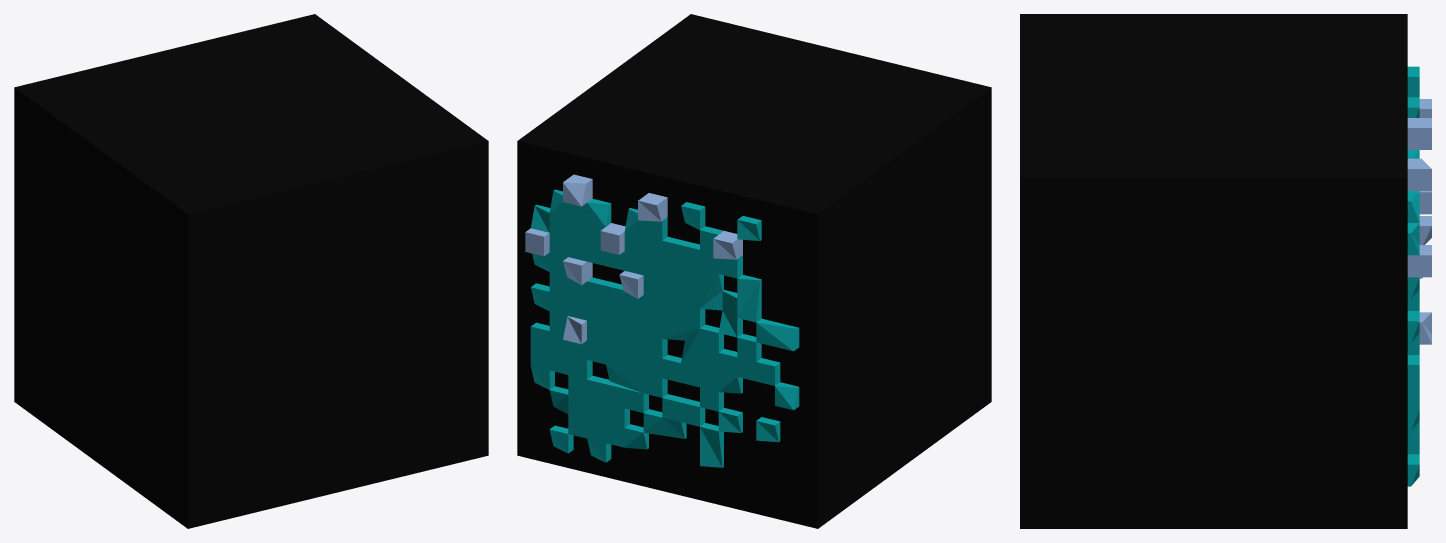
Rendered from br-m-bush-aqua.fbx.
3 renders of one model, left to right at view 1: azimuth 30°, elevation 25°; view 2: azimuth 150°, elevation 25°; view 3: azimuth 270°, elevation 25°, orthographic. The views are drawn at different scales.
Visible parts, largest first — view 1: block; view 2: block, bush; view 3: block, bush.
Boxes of the visible parts, x1=… form: block: x1=14, y1=14, x2=488, y2=528; block: x1=517, y1=14, x2=991, y2=528; bush: x1=525, y1=174, x2=799, y2=467; block: x1=1020, y1=14, x2=1407, y2=528; bush: x1=1407, y1=66, x2=1431, y2=486.
Size of the model in its own units: 1 by 1 by 1.06.
